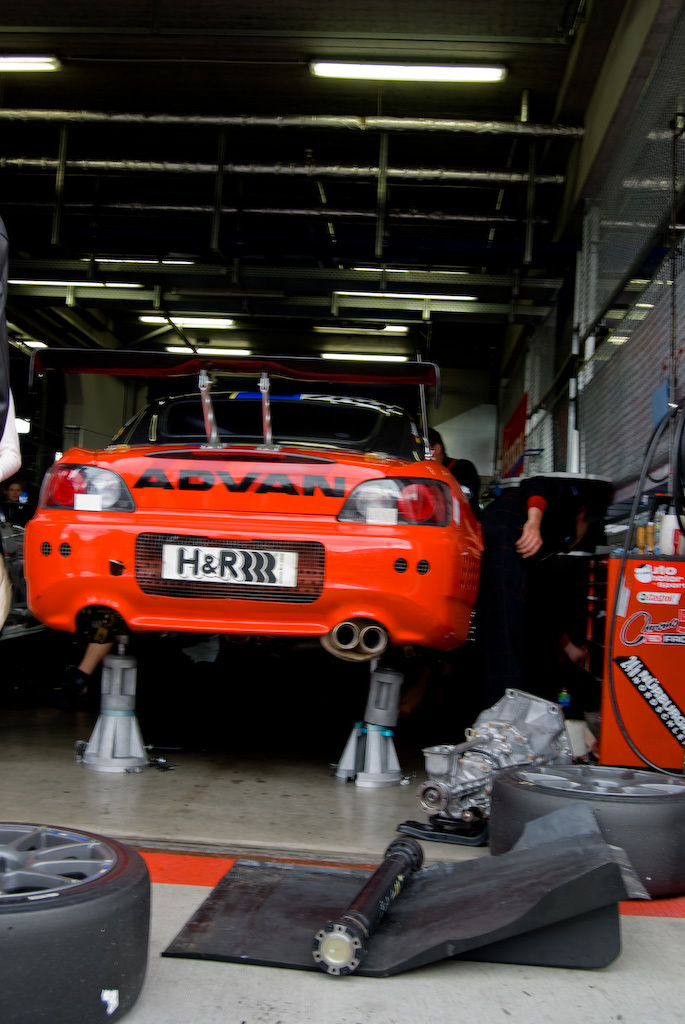Car: (19, 357, 478, 709)
